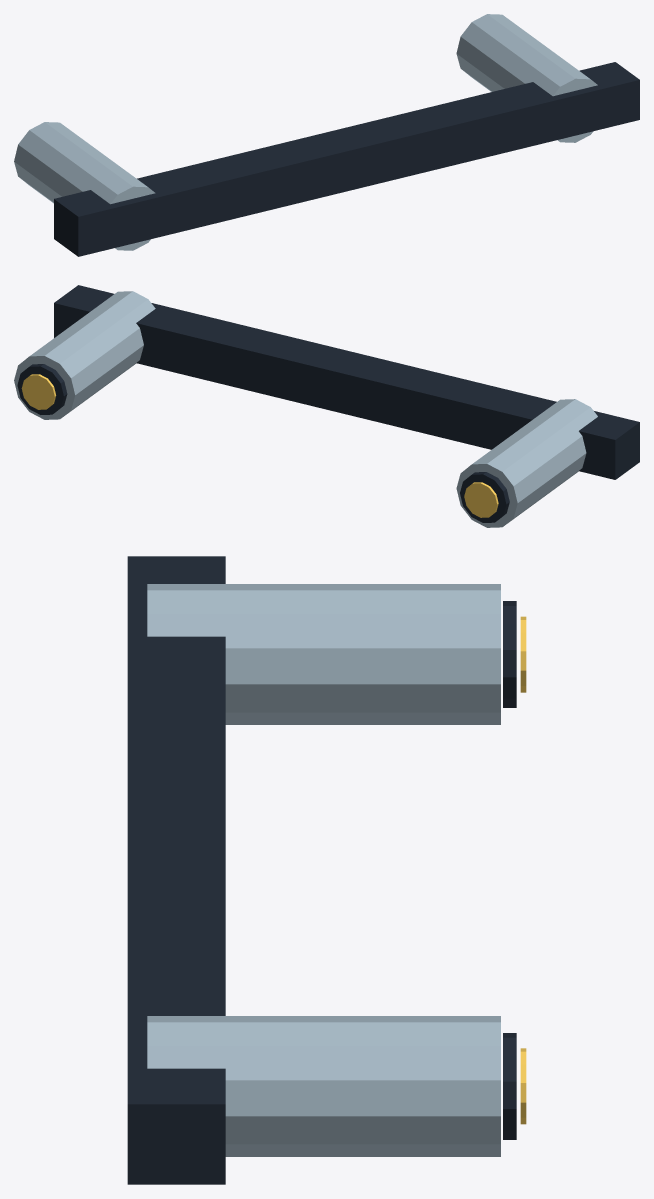
File: gold.glb
3 views of the same model, one above another, from view 1: azimuth 30°, elevation 25°; view 2: azimuth 150°, elevation 25°; view 3: azimuth 270°, elevation 25° (orthographic). The views are drawn at different scales.
Visible parts, largest first — view 1: EffectAccessory; view 2: EffectAccessory; view 3: EffectAccessory.
Boxes of the visible parts, <box> form: EffectAccessory: <box>14,14,639,256</box>; EffectAccessory: <box>14,285,639,527</box>; EffectAccessory: <box>127,556,526,1184</box>.
Bounding box in the file's own units: 0.66 × 0.072 × 0.203.
